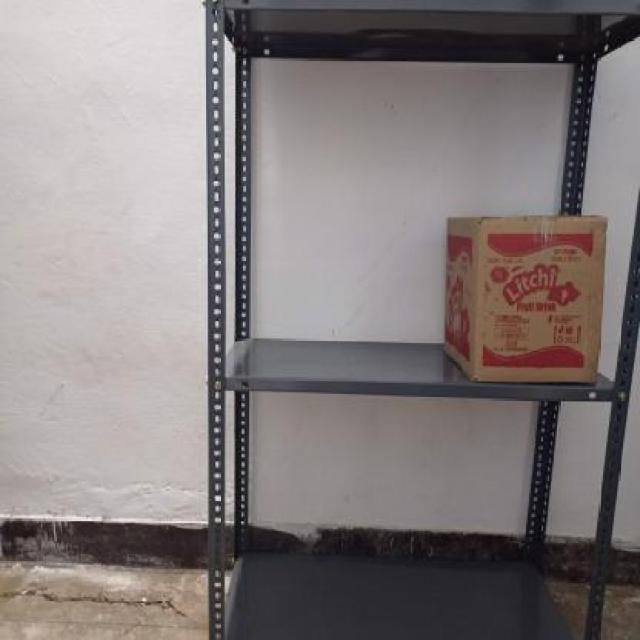box: (475, 214, 603, 386)
